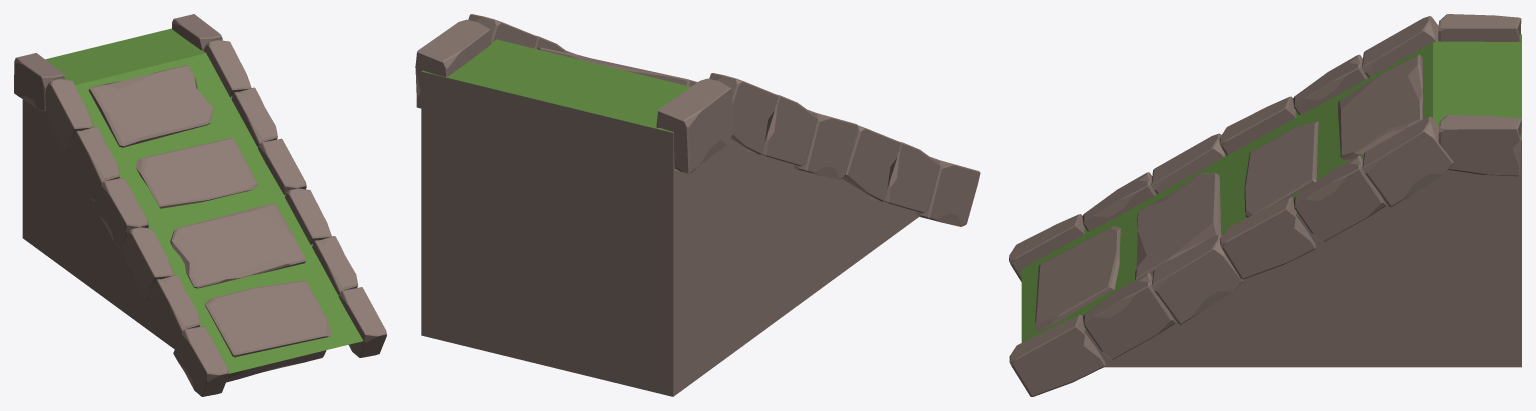
The model's file is tilemap_stair.glb.
The picture shows the model from 3 angles, left to right: view 1: azimuth 30°, elevation 25°; view 2: azimuth 150°, elevation 25°; view 3: azimuth 270°, elevation 25°; orthographic projection. The views are drawn at different scales.
Visible parts, largest first — view 1: Stair, Ground; view 2: Stair, Ground; view 3: Stair, Ground.
Part boxes in pixels (bbox=[...]): Stair: bbox=[14, 14, 386, 396]; Ground: bbox=[22, 99, 362, 373]; Stair: bbox=[415, 14, 980, 396]; Ground: bbox=[421, 72, 918, 396]; Stair: bbox=[1009, 14, 1521, 396]; Ground: bbox=[1085, 140, 1521, 367].
Bounding box in the file's own units: 4.4 × 4.83 × 8.2.
